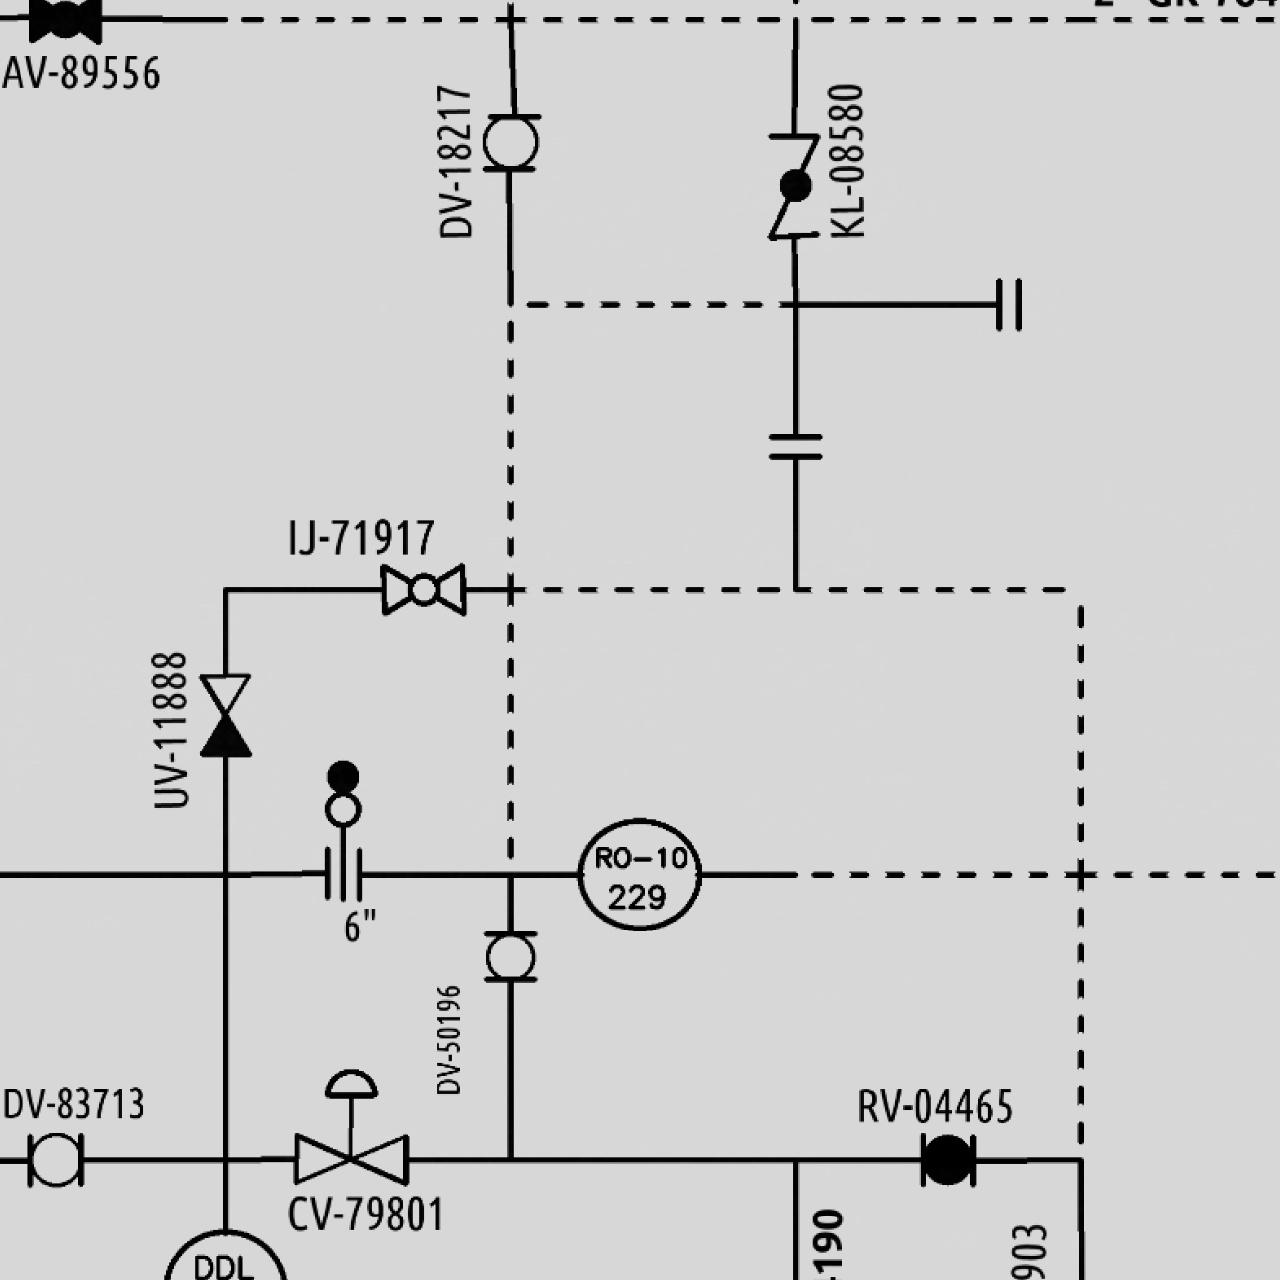Control-Panel: (573, 806, 704, 939)
Half closed valve: (195, 668, 254, 760)
